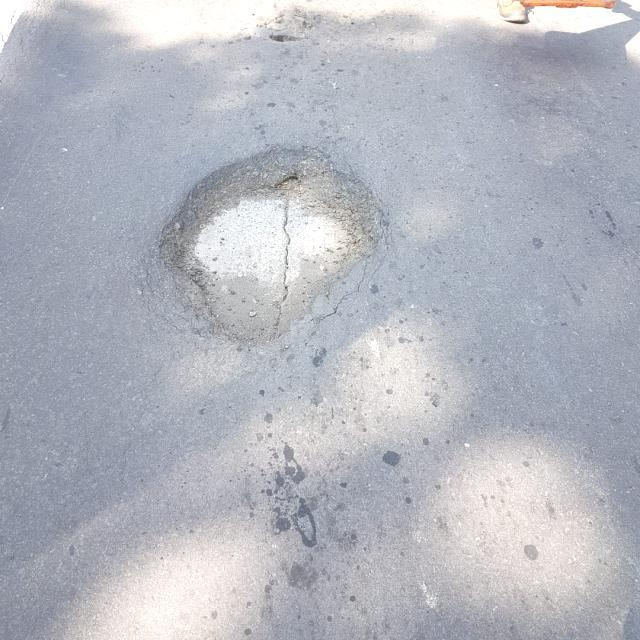Buraco: (155, 143, 388, 347)
